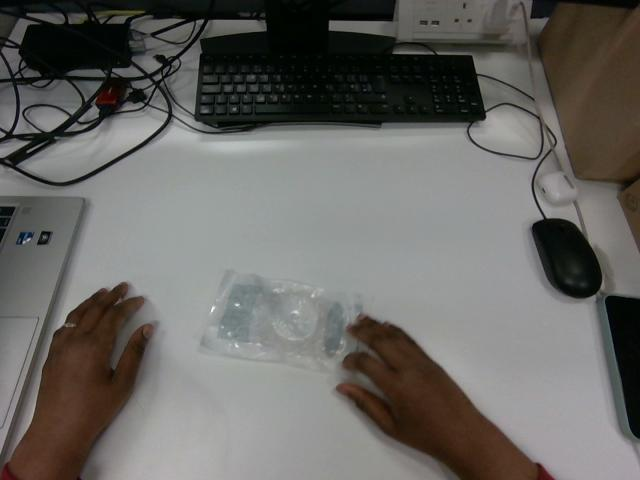gallipot: (201, 270, 362, 369)
